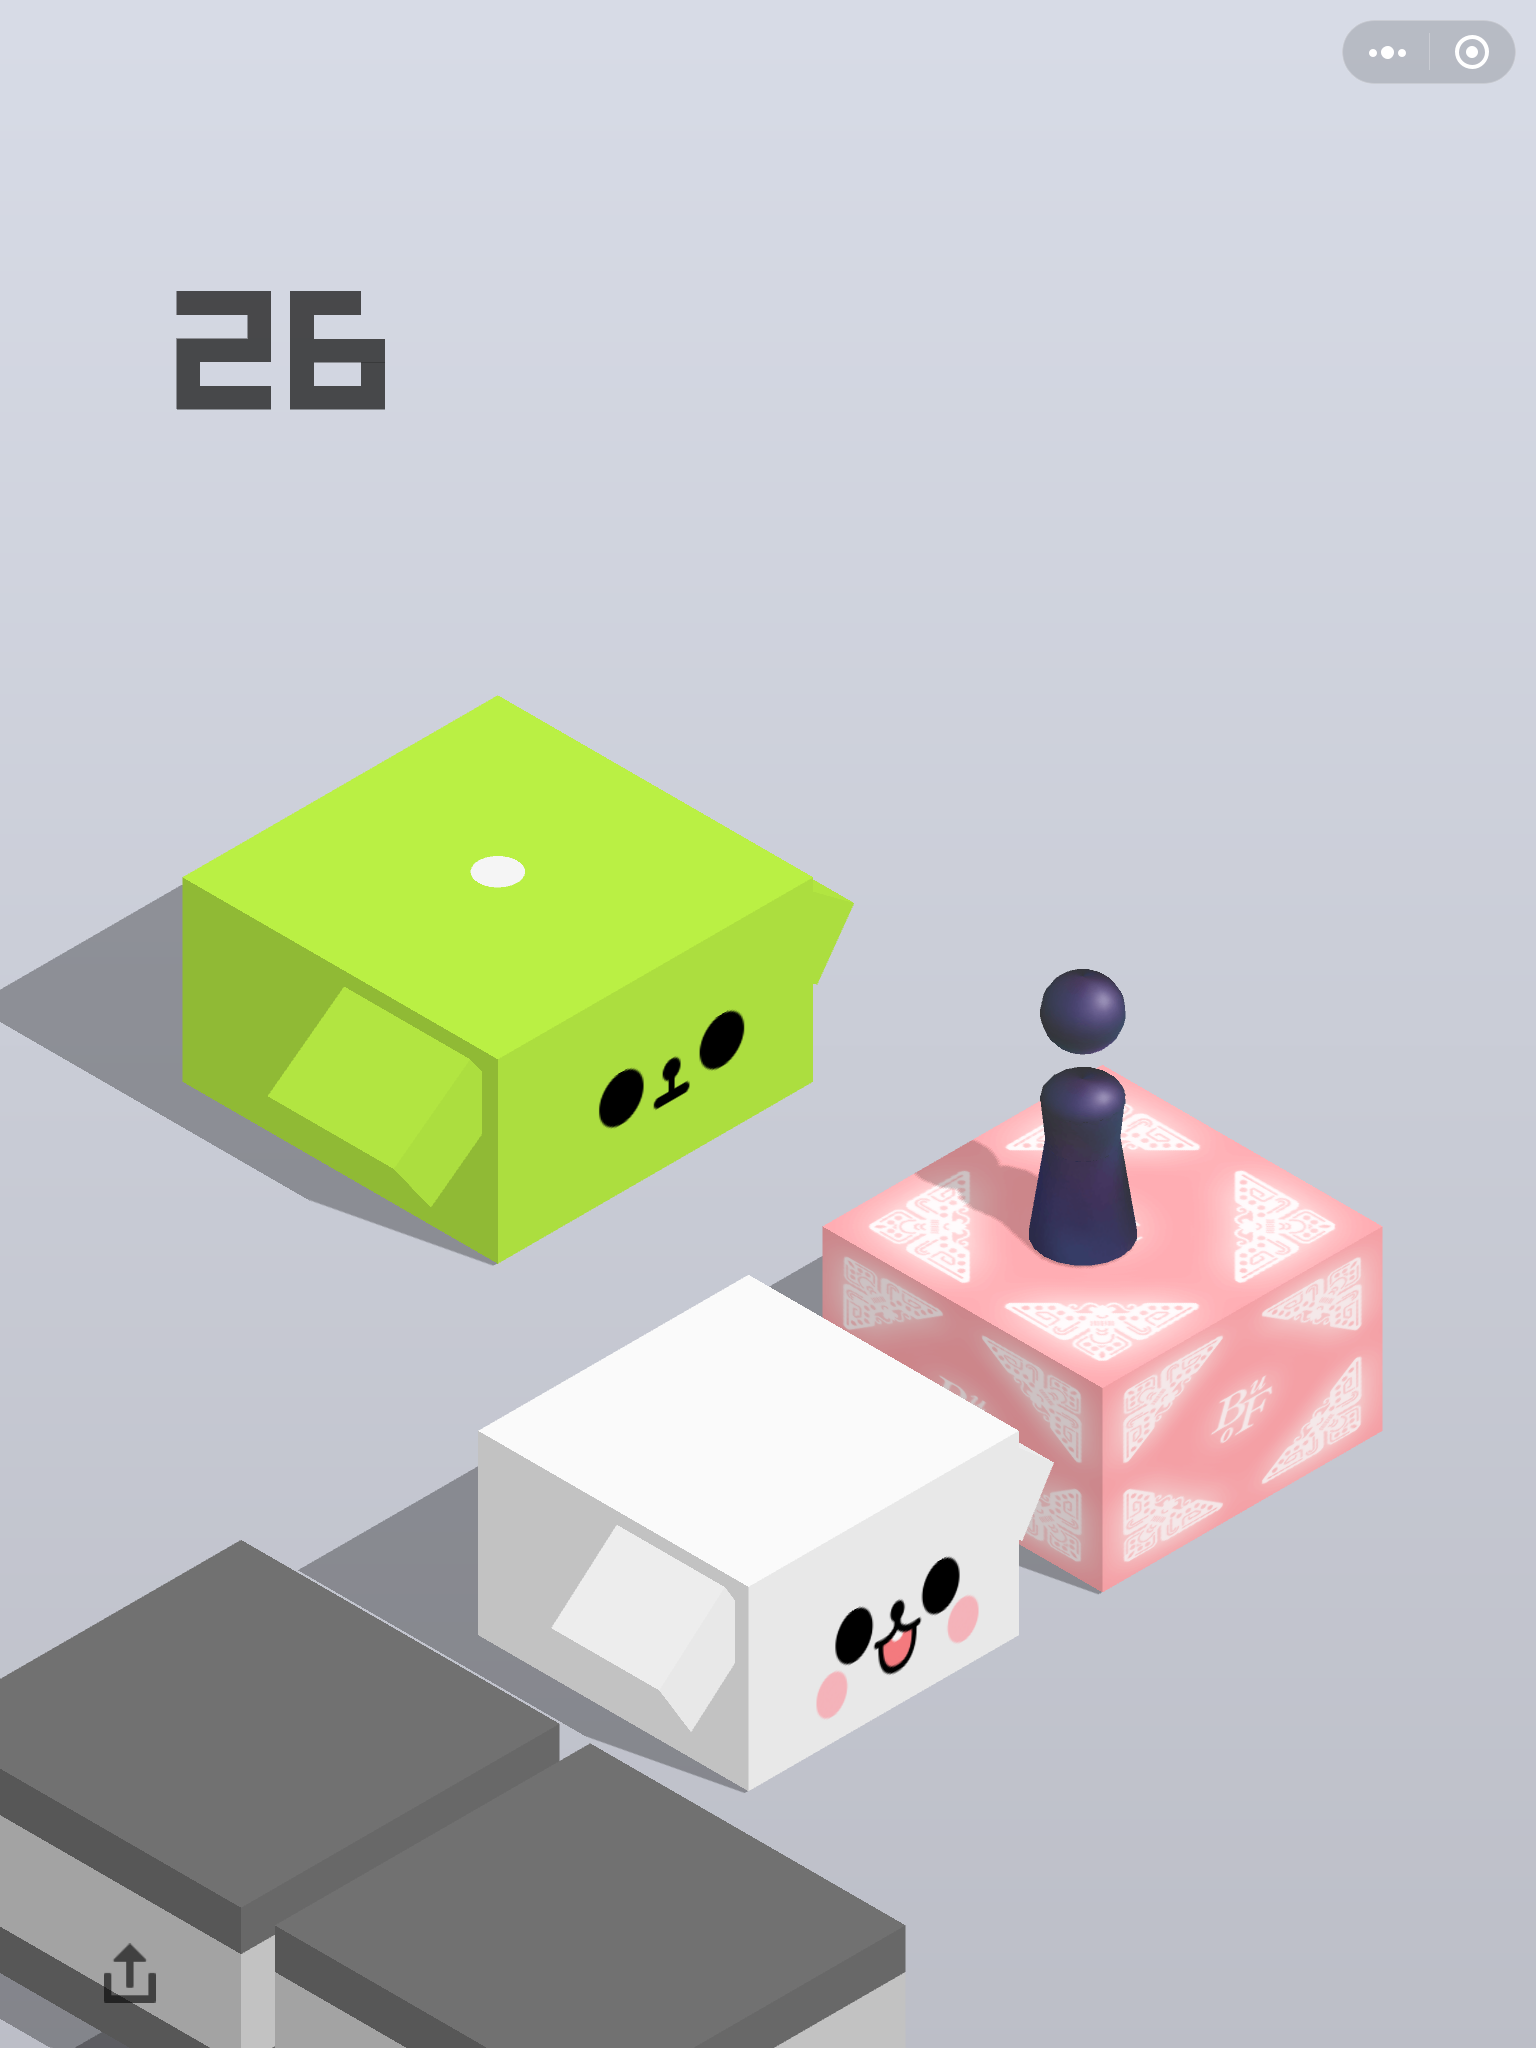f: (174, 692, 857, 1268), (471, 1271, 1057, 1796), (818, 1063, 1391, 1596), (2, 1534, 563, 2045), (269, 1737, 910, 2048)
r: (1025, 959, 1146, 1268)
